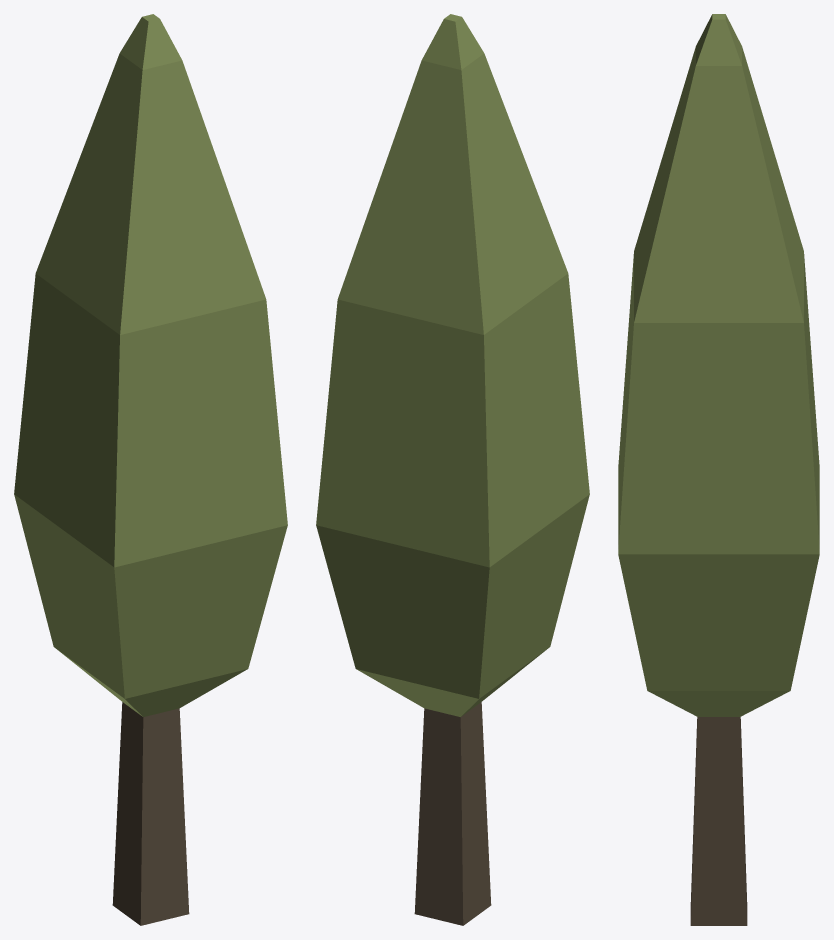
The model's file is pin.fbx.
3 views of the same model, side by side, from view 1: azimuth 30°, elevation 25°; view 2: azimuth 150°, elevation 25°; view 3: azimuth 270°, elevation 25° (orthographic).
Visible parts, largest first — view 1: pin4; view 2: pin4; view 3: pin4.
Boxes of the visible parts, x1,y1,x2,y2 form: pin4: (14, 14, 287, 925); pin4: (316, 14, 589, 925); pin4: (618, 14, 819, 925).
Bounding box in the file's own units: 0.8874 × 4.36 × 0.8874.
